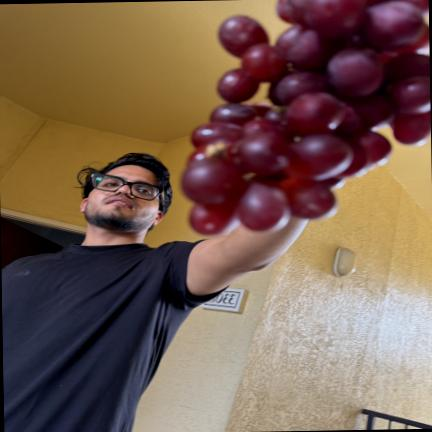grape_cluster: (182, 0, 431, 234)
